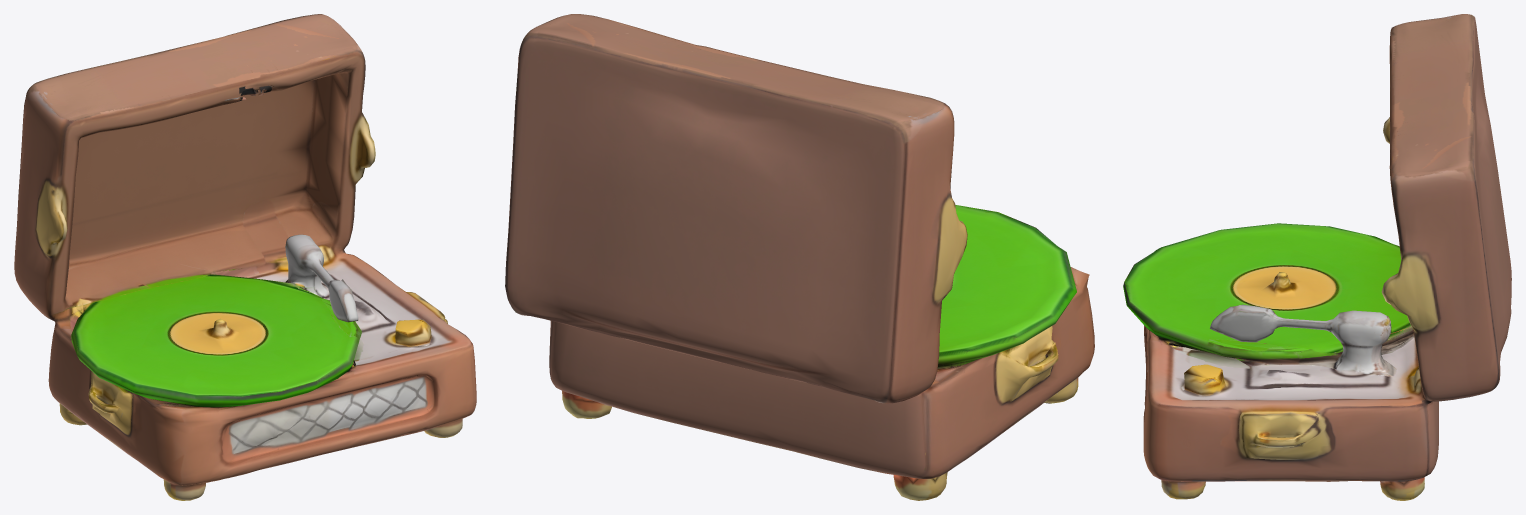
File: Phonograph.glb
3 renders of one model, left to right at view 1: azimuth 30°, elevation 25°; view 2: azimuth 150°, elevation 25°; view 3: azimuth 270°, elevation 25°, orthographic. The views are drawn at different scales.
Size of the model in its own units: 1.91 by 1.66 by 1.72.
Materials: 1 (1 with a texture image).
